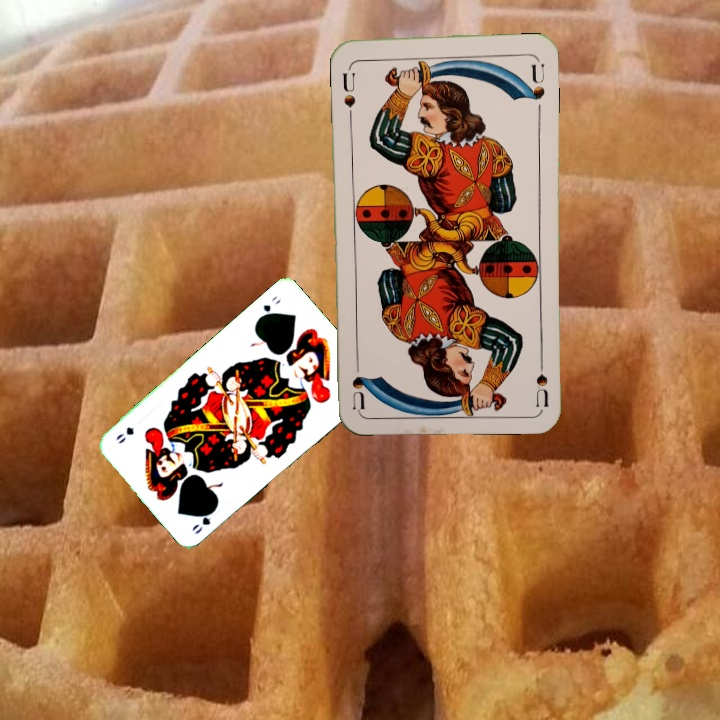GO: (187, 503, 220, 537), (254, 292, 284, 322)
SU: (532, 348, 551, 407), (338, 69, 358, 110)
